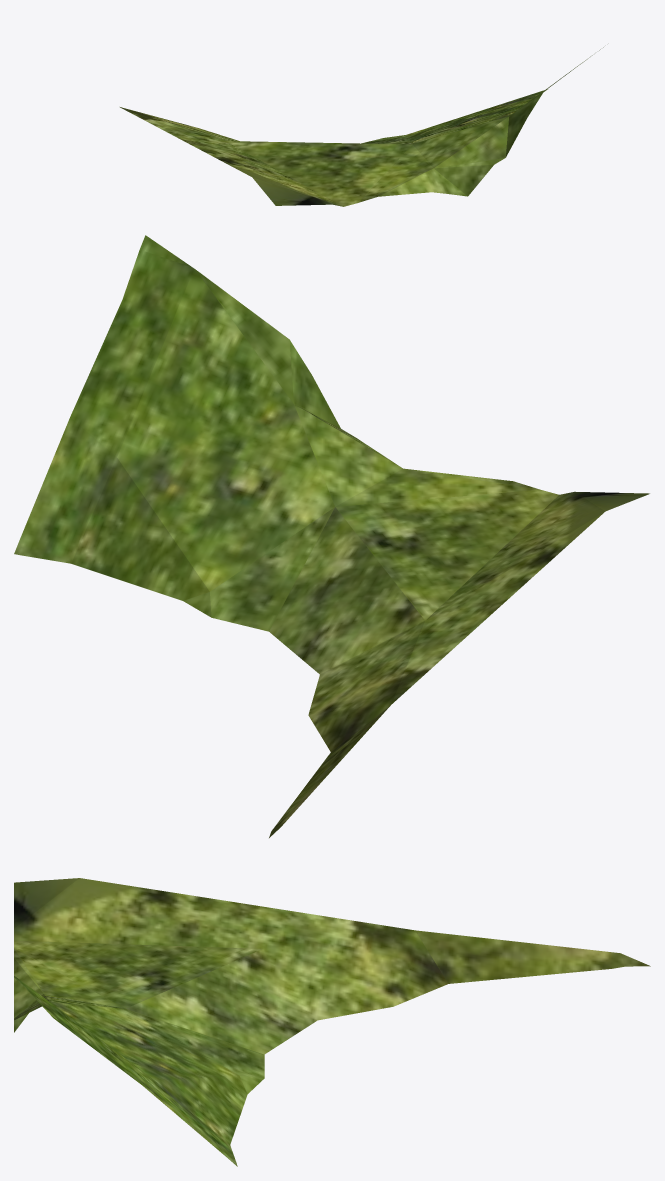
3 views of the same model, one above another, from view 1: azimuth 30°, elevation 25°; view 2: azimuth 150°, elevation 25°; view 3: azimuth 270°, elevation 25° (orthographic). The views are drawn at different scales.
Size of the model in its own units: 4.12 by 1.74 by 5.29.
Materials: 1 (1 with a texture image).
